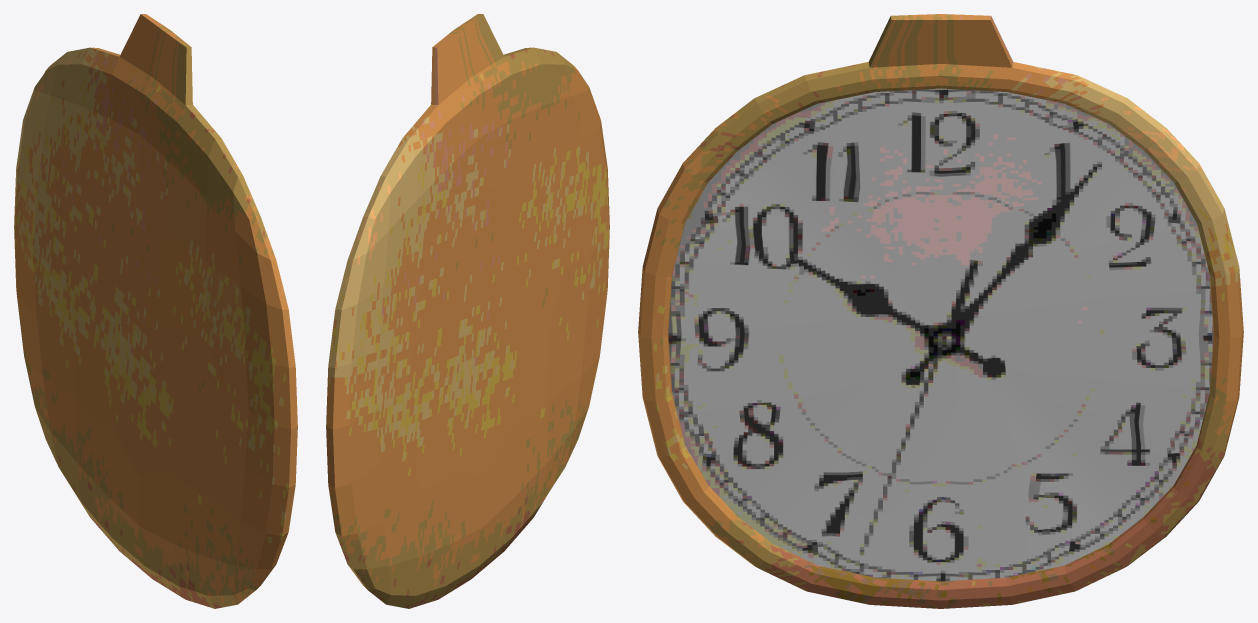
The model's file is clock.fbx.
The picture shows the model from 3 angles, left to right: view 1: azimuth 30°, elevation 25°; view 2: azimuth 150°, elevation 25°; view 3: azimuth 270°, elevation 25°; orthographic projection. The views are drawn at different scales.
Visible parts, largest first — view 1: Cube.010; view 2: Cube.010; view 3: Cube.011, Cube.010.
Boxes of the visible parts, left/top/right/bottom form: Cube.010: left=14, top=14, right=297, bottom=608; Cube.010: left=326, top=14, right=609, bottom=608; Cube.011: left=668, top=88, right=1213, bottom=581; Cube.010: left=638, top=14, right=1243, bottom=608.
Bounding box in the file's own units: 10.26 × 177 × 162.
